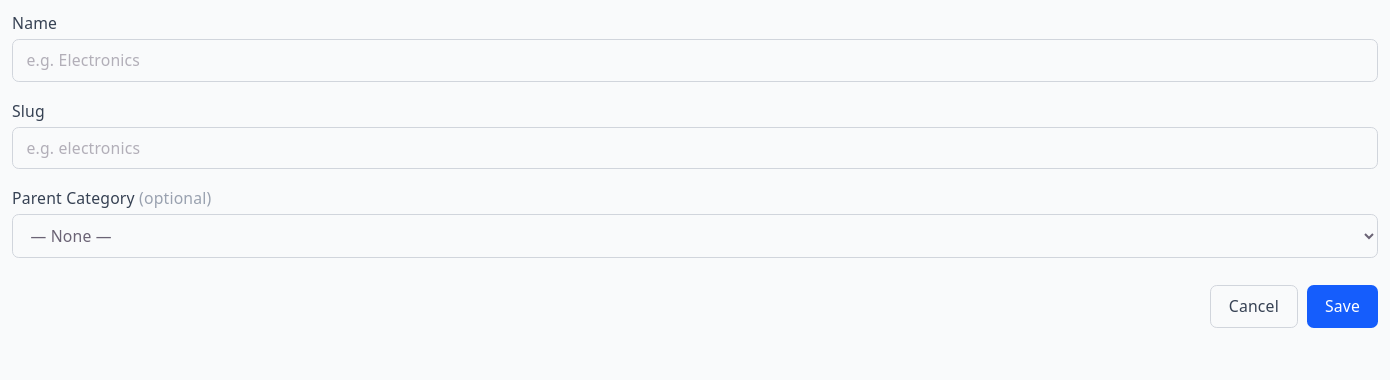
Test case: CategoryForm › shows "Name is required" when submitted with empty name
Clear the auto-generated slug then submit
Clear the field labelled "Slug" at (695, 148), box [12,126,1378,169]
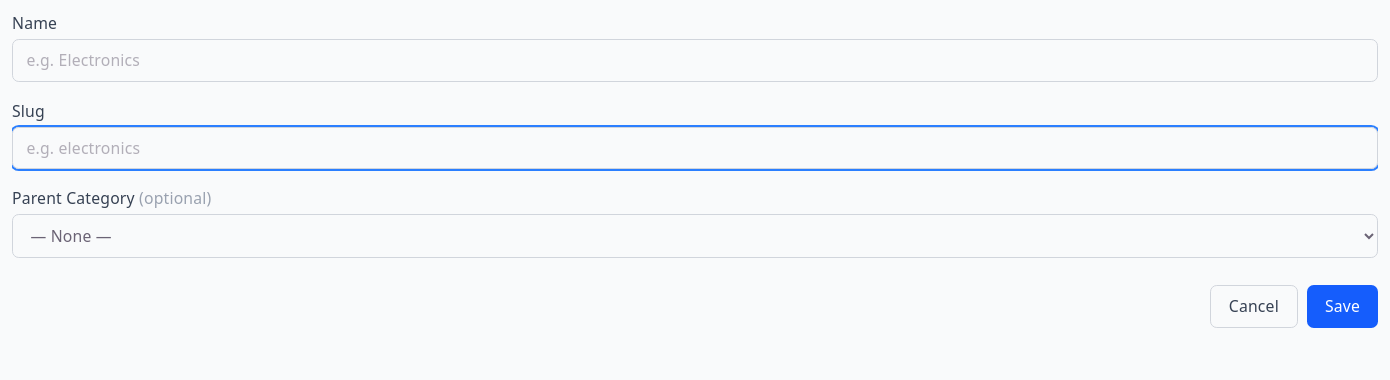
Click the button "Save".
click(1342, 306)  # box [1307,285,1378,328]
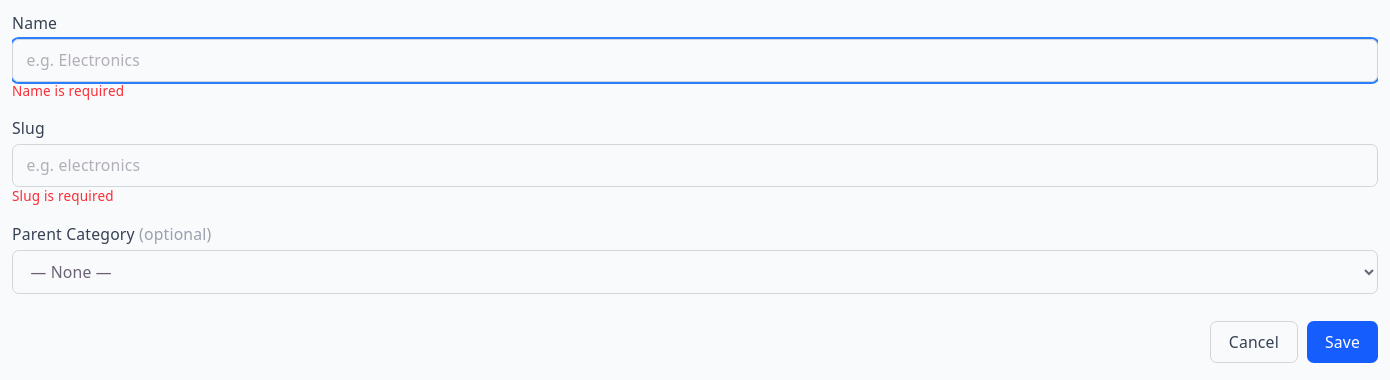
Now the text "Name is required" is shown, box [12,82,124,100]
